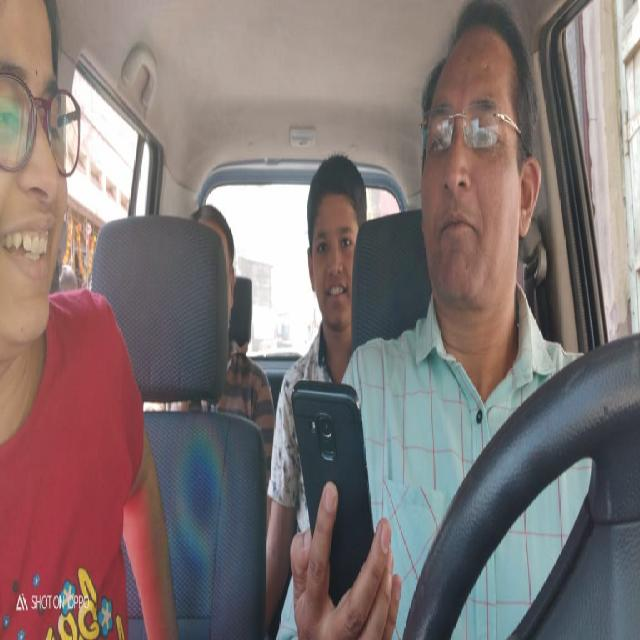mobile: (288, 370, 386, 614)
person: (408, 9, 544, 317), (1, 0, 85, 360), (301, 153, 365, 347), (194, 208, 238, 322)
